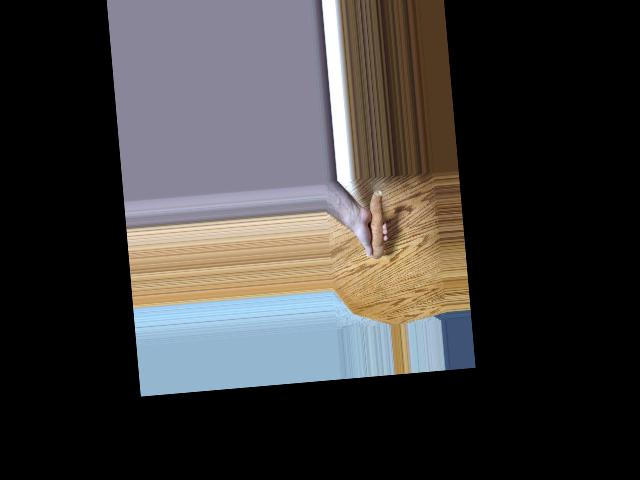sweet_potato: (360, 189, 386, 257)
